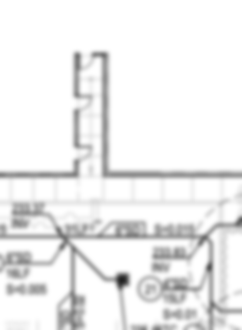door: (75, 94, 95, 112), (74, 144, 93, 162), (77, 52, 94, 71)
